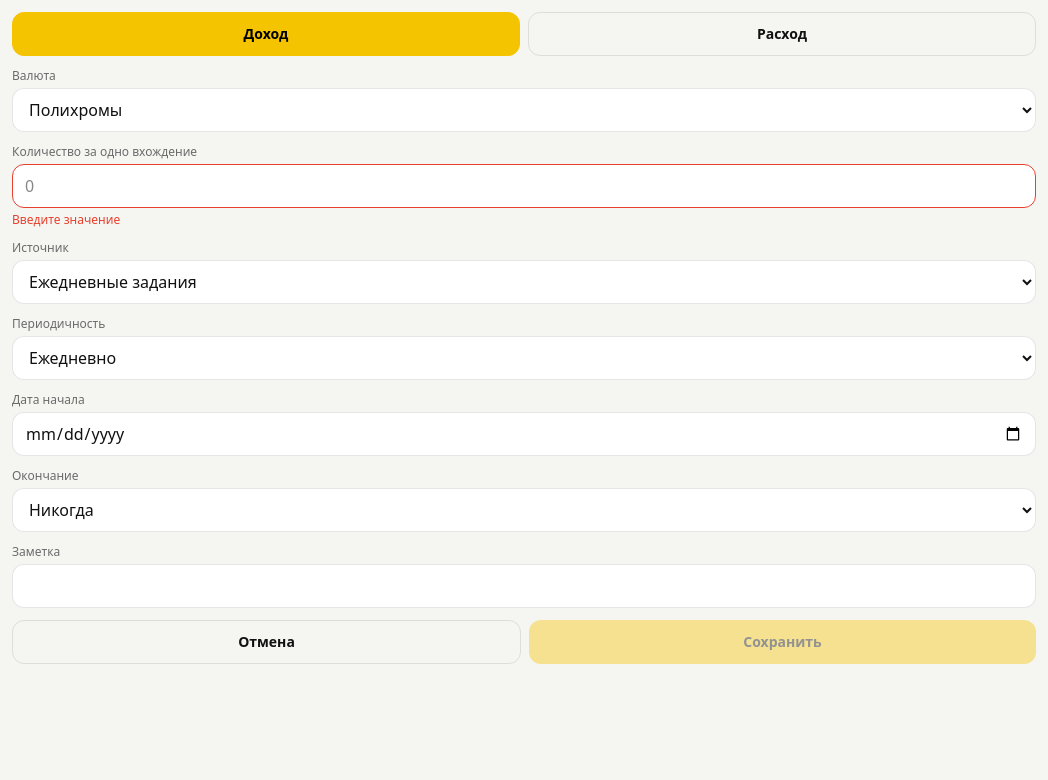
SeriesForm › create mode › shows the weekday picker only for WEEKLY frequency
Select "Еженедельно" in the dropdown labelled "Периодичность" at (524, 358), box [12,336,1036,380]
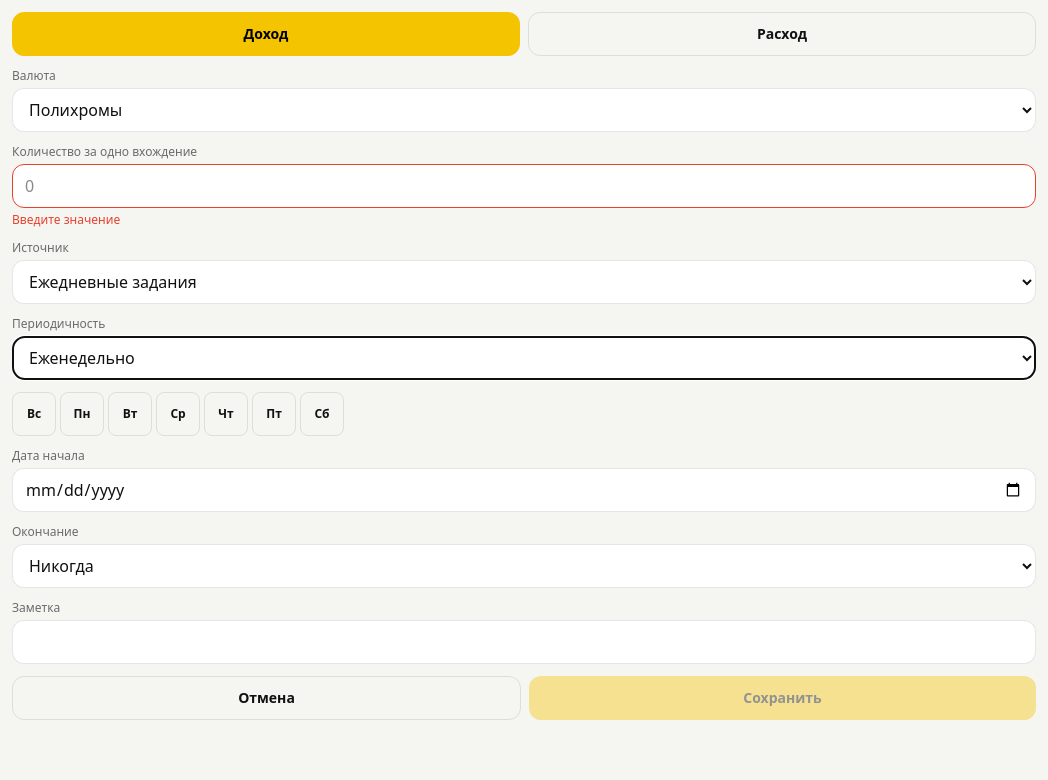
Now the element named "дни недели" is shown, box [12,392,344,436]
